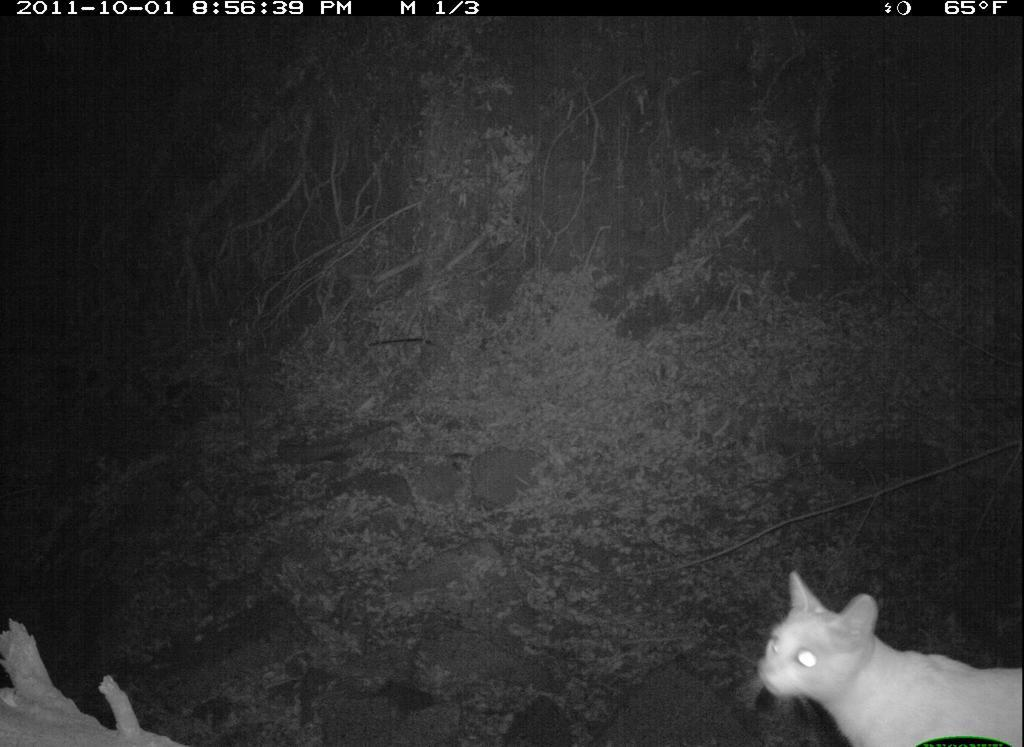cat: (749, 559, 1023, 747)
